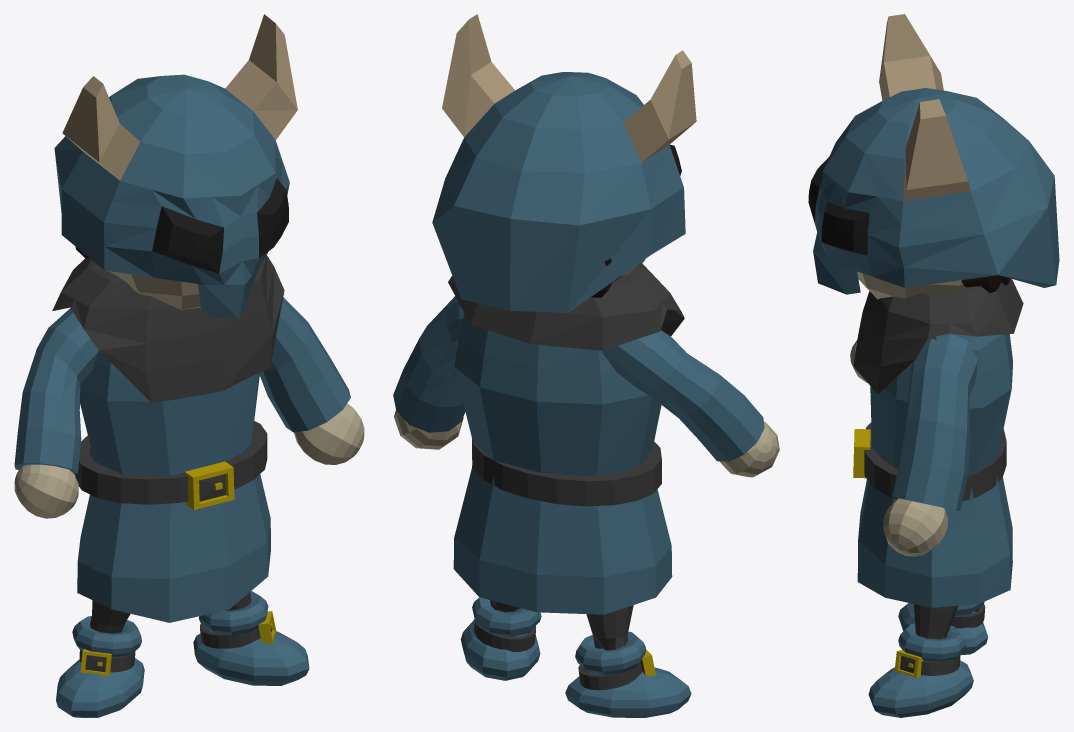
The model's file is Character01.fbx.
The picture shows the model from 3 angles, left to right: view 1: azimuth 30°, elevation 25°; view 2: azimuth 150°, elevation 25°; view 3: azimuth 270°, elevation 25°; orthographic projection. The views are drawn at different scales.
Visible parts, largest first — view 1: polySurface13915; view 2: polySurface13915; view 3: polySurface13915.
Part boxes in pixels (left/top/right/bottom): polySurface13915: left=14, top=14, right=364, bottom=717; polySurface13915: left=393, top=14, right=779, bottom=717; polySurface13915: left=808, top=14, right=1059, bottom=717.
Size of the model in its own units: 0.2965 by 0.5107 by 0.1887.
